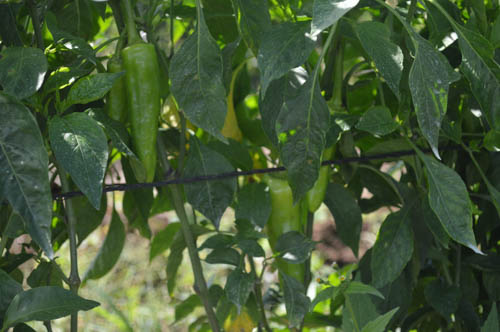ChiliPepper: (123, 47, 164, 183), (261, 173, 304, 287), (309, 119, 344, 223), (103, 60, 128, 122)
